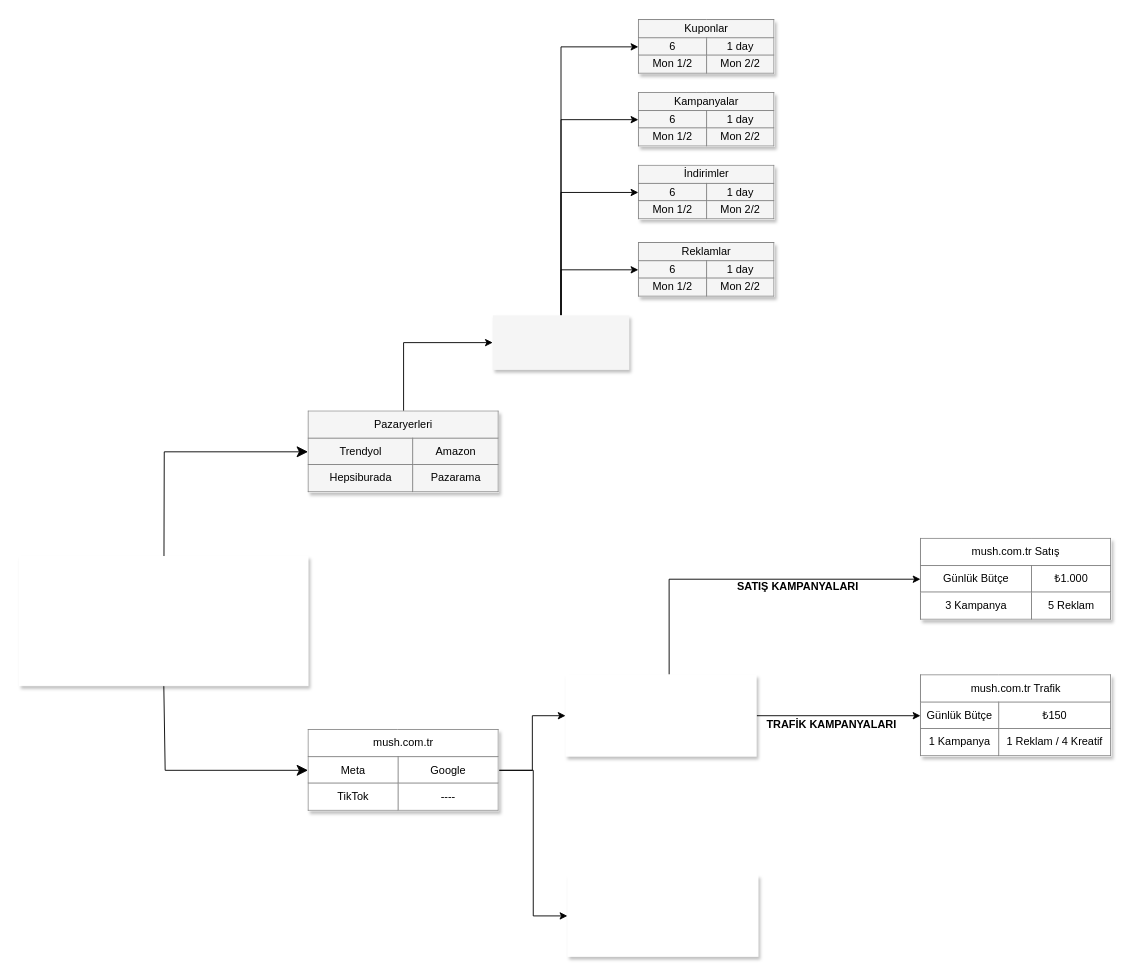
This 1133x978 diagram has some shape labels left out. Here are the shapes that lost their labels. From the top down, the centre of each, then its label:
At (x=561, y=343): "Trendyol 4 1 day Mon 1/2 Mon 2/2".
At (x=164, y=622): "Mush Mantar Aralık 30 Gün --- Bütçe: 100.000".
At (x=661, y=717): "META Aylık Bütçe: ₺35.000".
At (x=663, y=917): "Google Toplam Bütçe: ₺10.000".
